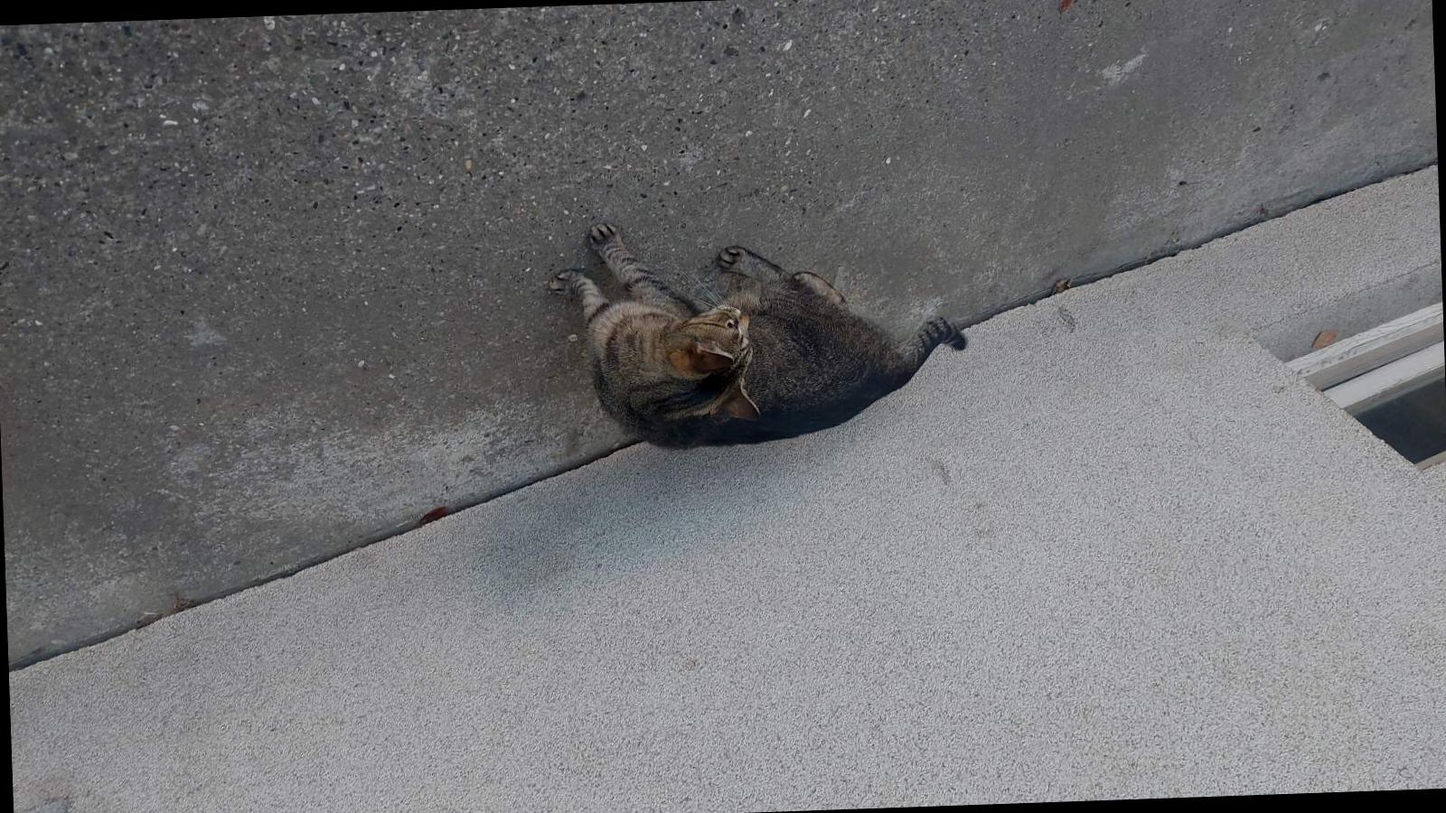macka: (544, 208, 972, 455)
